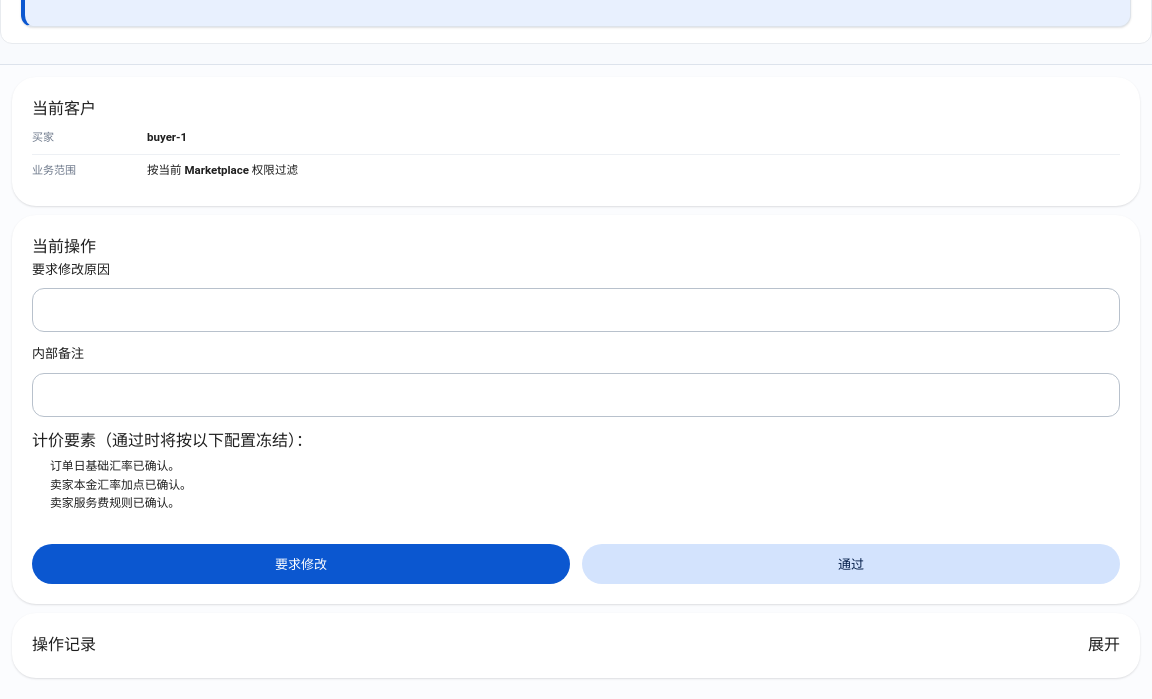
Scenario: order evidence review panel › shows the safe prerequisite code, actionable hint and request id
This screenshot has width=1152, height=699.
(page scrolled)
Click the button "通过" at (851, 564), box [582,544,1120,584]
(page scrolled)
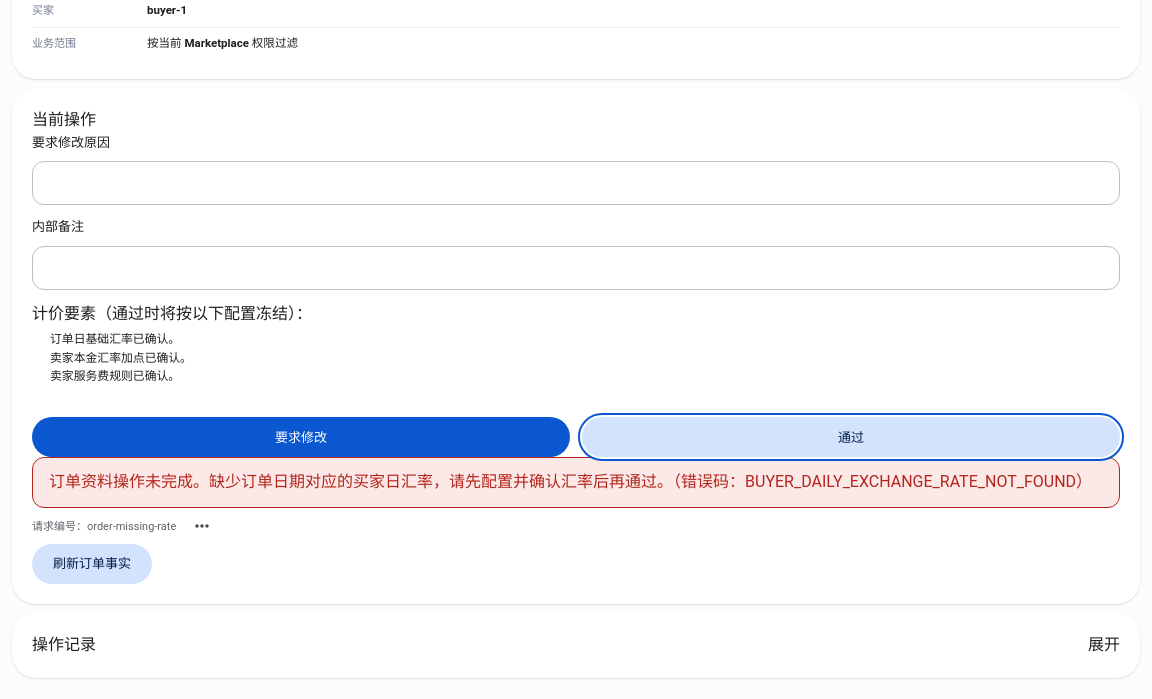
Result: the message shows "缺少订单日期对应的买家日汇率" at [209,472,673,491]
Result: the message shows "错误码：BUYER_DAILY_EXCHANGE_RATE_NOT_FOUND" at [673,472,1092,491]
Result: the text "请求编号：order-missing-rate" is shown at [32,518,176,535]
